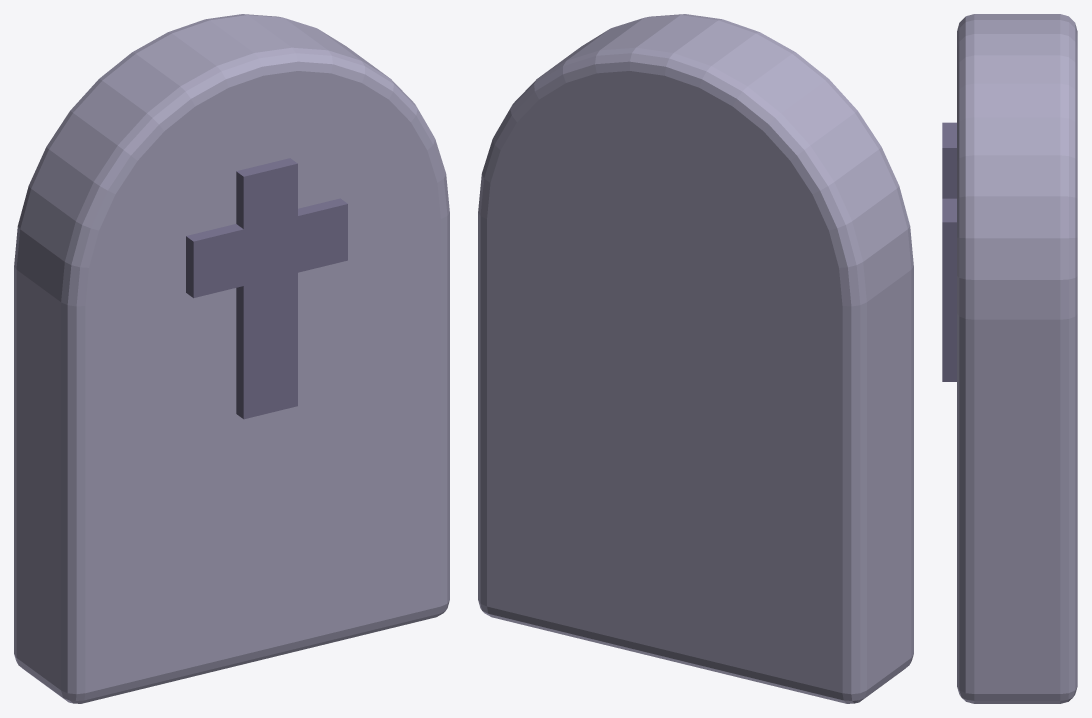
File: tombstone.glb
The picture shows the model from 3 angles, left to right: view 1: azimuth 30°, elevation 25°; view 2: azimuth 150°, elevation 25°; view 3: azimuth 270°, elevation 25°; orthographic projection. The views are drawn at different scales.
Visible parts, largest first — view 1: Tombstone, Cube, Cube.001; view 2: Tombstone; view 3: Tombstone, Cube, Cube.001.
Boxes of the visible parts, <box> form: Tombstone: <box>14,14,449,703</box>; Cube: <box>236,158,297,419</box>; Cube.001: <box>186,198,347,298</box>; Tombstone: <box>478,14,913,703</box>; Tombstone: <box>957,14,1077,703</box>; Cube: <box>942,122,956,381</box>; Cube.001: <box>942,198,956,276</box>.
Bounding box in the file's own units: 0.5 × 0.75 × 0.157.
